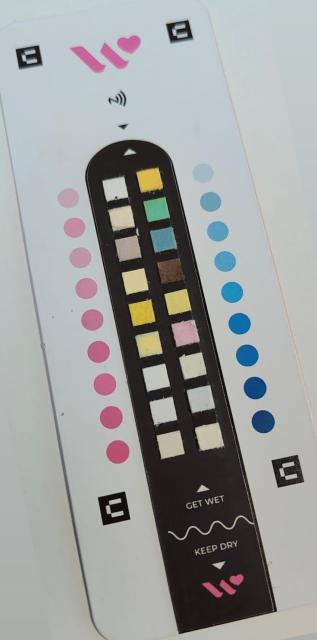black_strip: (69, 126, 289, 639)
circle: (238, 371, 273, 406), (193, 184, 227, 219), (215, 275, 250, 309), (52, 181, 86, 215), (57, 211, 91, 245), (64, 241, 98, 275), (69, 272, 103, 306), (75, 303, 109, 337), (81, 335, 115, 369), (87, 367, 121, 401), (94, 401, 128, 435), (101, 435, 135, 469), (186, 156, 220, 190), (201, 214, 235, 248), (208, 244, 242, 278), (222, 307, 256, 341), (231, 339, 265, 373), (246, 405, 280, 439)
markers: (192, 405, 284, 457), (130, 154, 220, 196), (136, 185, 226, 227), (143, 215, 233, 257), (150, 245, 240, 287), (158, 278, 248, 320), (181, 373, 271, 415), (174, 340, 263, 382), (167, 309, 256, 350), (52, 171, 134, 214), (58, 202, 140, 245), (71, 263, 153, 306), (77, 295, 159, 338), (84, 328, 166, 371), (92, 361, 174, 404), (99, 394, 181, 437), (105, 429, 187, 472), (64, 232, 145, 275)
square: (147, 223, 181, 255), (100, 174, 133, 206), (126, 298, 159, 330), (133, 328, 166, 360), (140, 362, 173, 394), (147, 394, 180, 426), (155, 429, 188, 461), (134, 164, 167, 196), (140, 194, 173, 226), (154, 255, 187, 287), (162, 286, 195, 318), (169, 317, 202, 349), (185, 383, 218, 415), (194, 422, 227, 454), (106, 202, 138, 234), (113, 232, 145, 264), (120, 265, 152, 297), (177, 351, 210, 382)
triangle: (53, 19, 155, 137)
